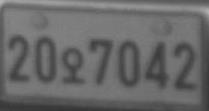0: (117, 40, 141, 87), (35, 35, 57, 82)
2: (7, 34, 30, 82), (174, 42, 196, 90)
4: (144, 41, 170, 87)
7: (88, 38, 113, 83)
오: (61, 45, 85, 84)
